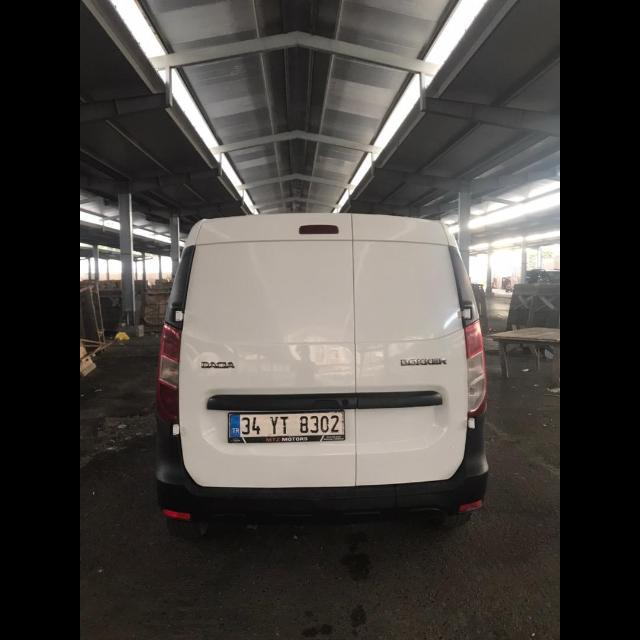Plaka: (229, 413, 345, 437)
